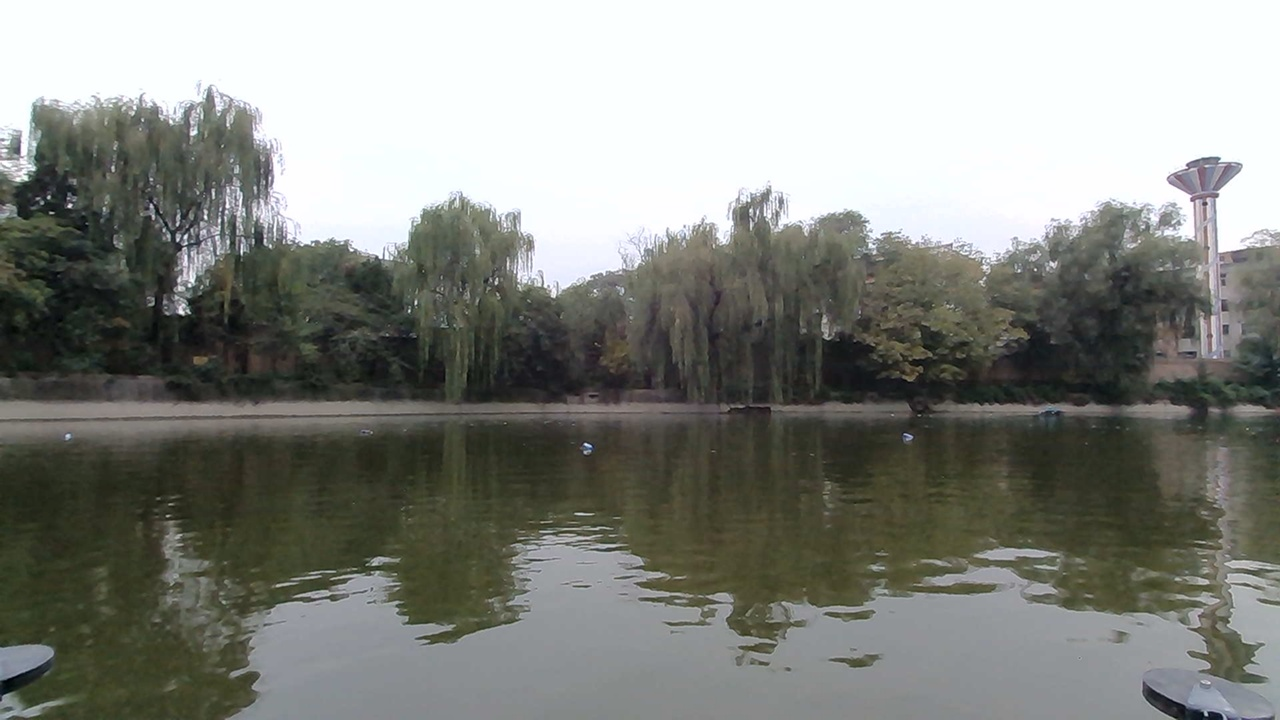bottle: (350, 414, 386, 445), (571, 432, 610, 460), (49, 423, 90, 446), (892, 425, 923, 446)
